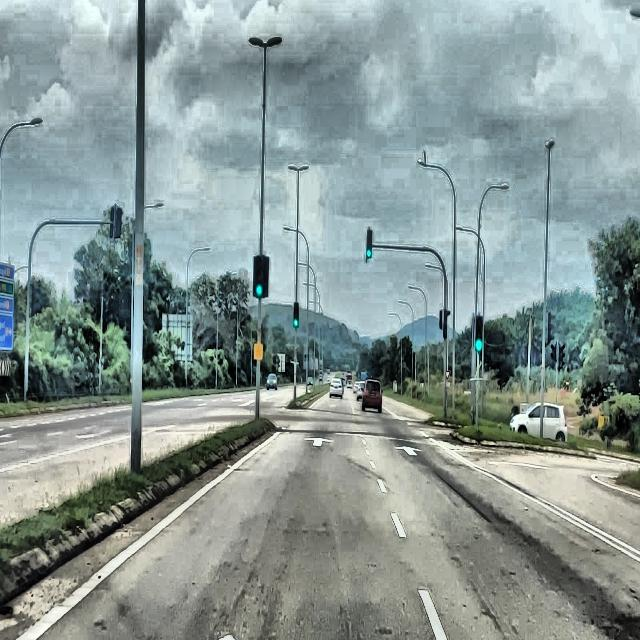green: (253, 255, 265, 298), (476, 315, 483, 352), (294, 300, 299, 328), (367, 230, 372, 256)
